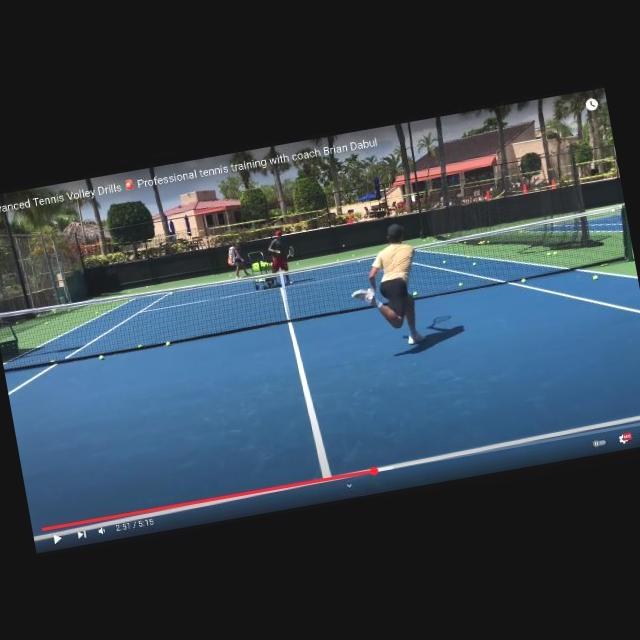Tennis Ball: (412, 290, 418, 296), (592, 274, 598, 280), (165, 340, 170, 346), (98, 354, 102, 360), (520, 278, 524, 283)
